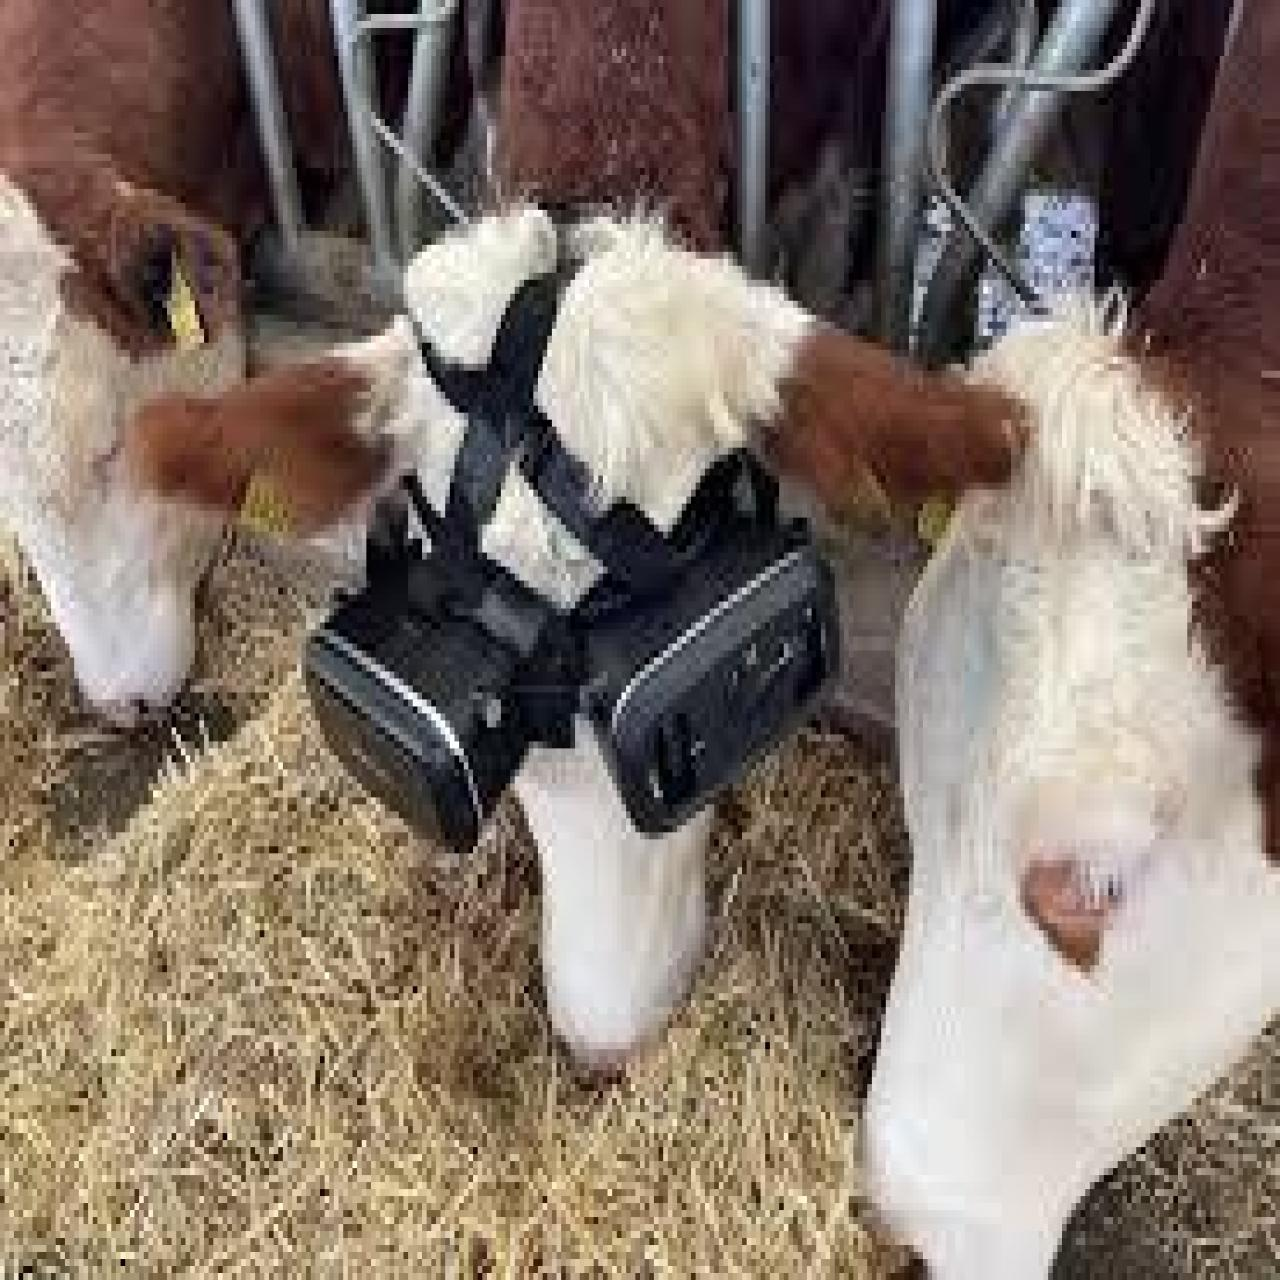cow: (135, 0, 1043, 1077), (858, 7, 1280, 1280), (0, 0, 256, 720)
